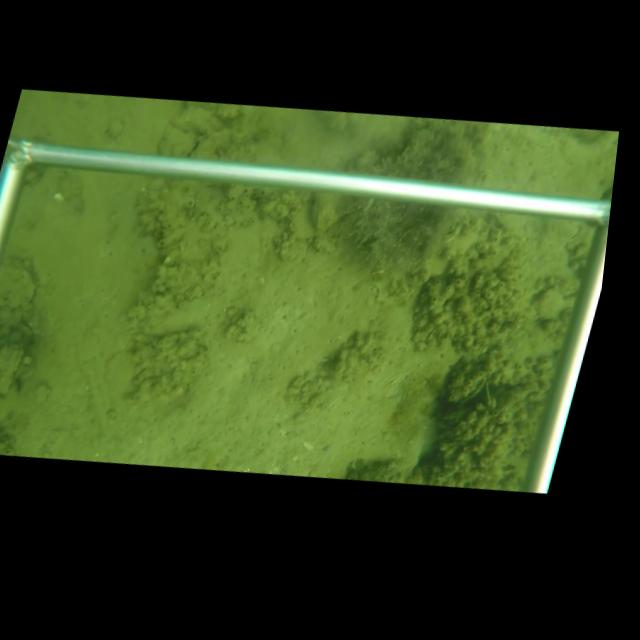Oyster-Indeterminate: (0, 255, 38, 307), (310, 193, 349, 235)
Oyster-Open: (449, 374, 489, 406), (17, 320, 39, 339), (13, 375, 26, 400)
